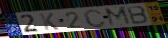2: (19, 14, 40, 33), (65, 11, 83, 29)
B: (125, 5, 150, 25)
C: (82, 8, 107, 28)
K: (39, 13, 61, 31)
M: (103, 6, 134, 28)
